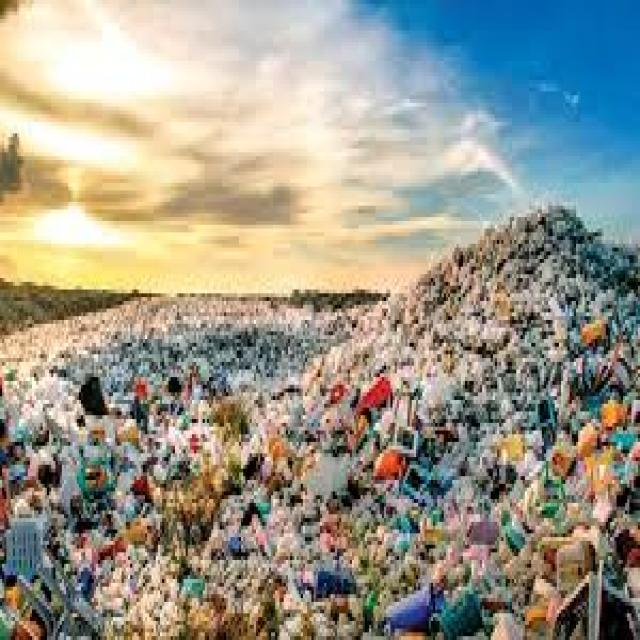plastic: (69, 325, 628, 630)
